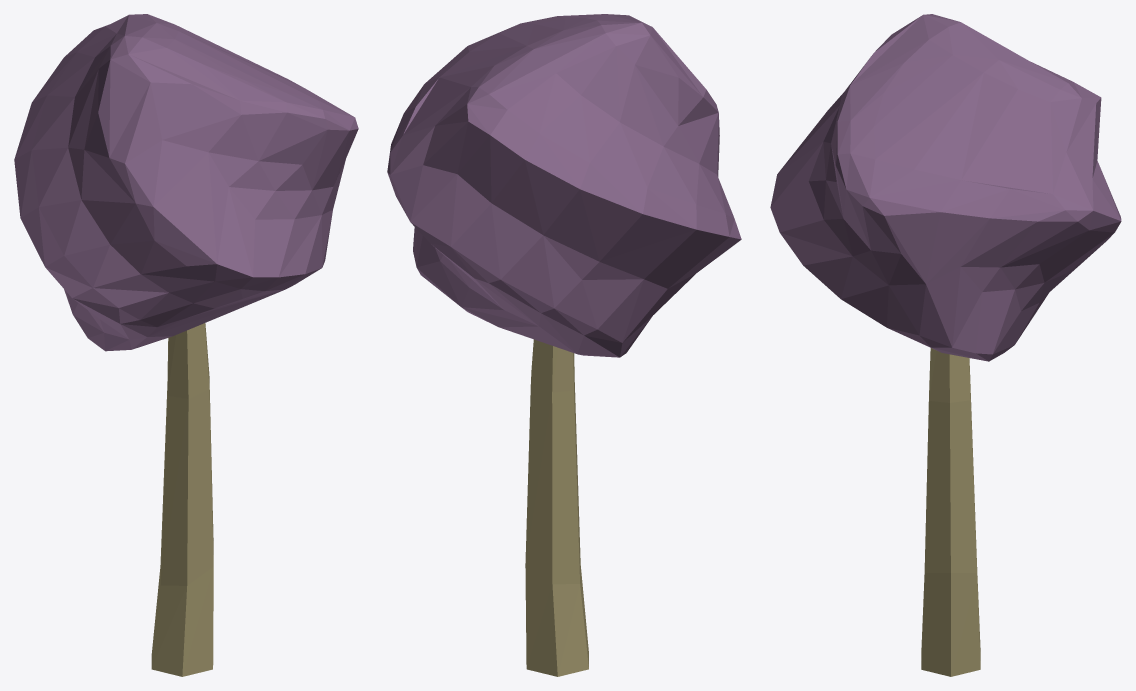
The model's file is TwistedTree.fbx.
The picture shows the model from 3 angles, left to right: view 1: azimuth 30°, elevation 25°; view 2: azimuth 150°, elevation 25°; view 3: azimuth 270°, elevation 25°; orthographic projection. The views are drawn at different scales.
Parts seen in each view (by area): view 1: TwistedTreeBush, TwistedTreeBranch1; view 2: TwistedTreeBush, TwistedTreeBranch1; view 3: TwistedTreeBush, TwistedTreeBranch1.
Boxes of the visible parts, x1,y1,x2,y2 form: TwistedTreeBush: [14, 14, 358, 351]; TwistedTreeBranch1: [151, 323, 213, 676]; TwistedTreeBush: [387, 14, 741, 357]; TwistedTreeBranch1: [525, 339, 588, 676]; TwistedTreeBush: [770, 14, 1121, 361]; TwistedTreeBranch1: [921, 348, 980, 676].
Bounding box in the file's own units: 5.88 × 12.22 × 6.31.
